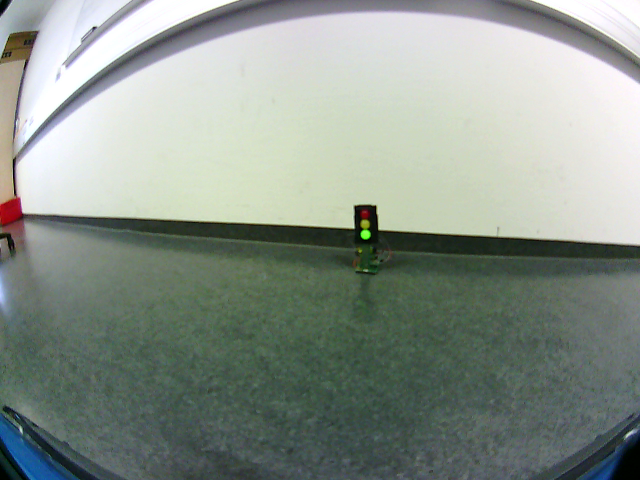green trafficlight: (356, 209, 372, 241)
